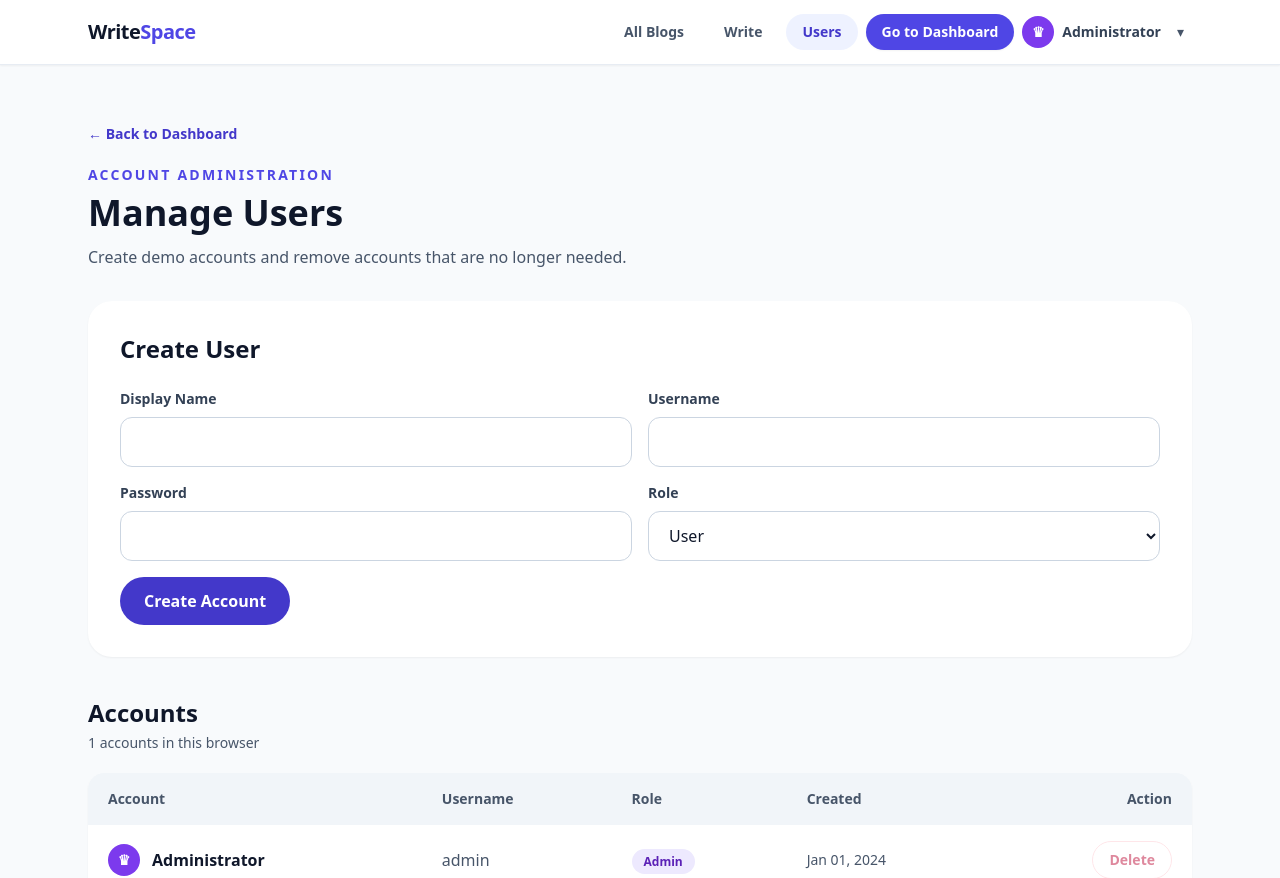
Test: administrator pages › creates a user account and reports duplicate or missing fields
Click the button "Create Account".
click(205, 601)  # box [120, 577, 290, 625]
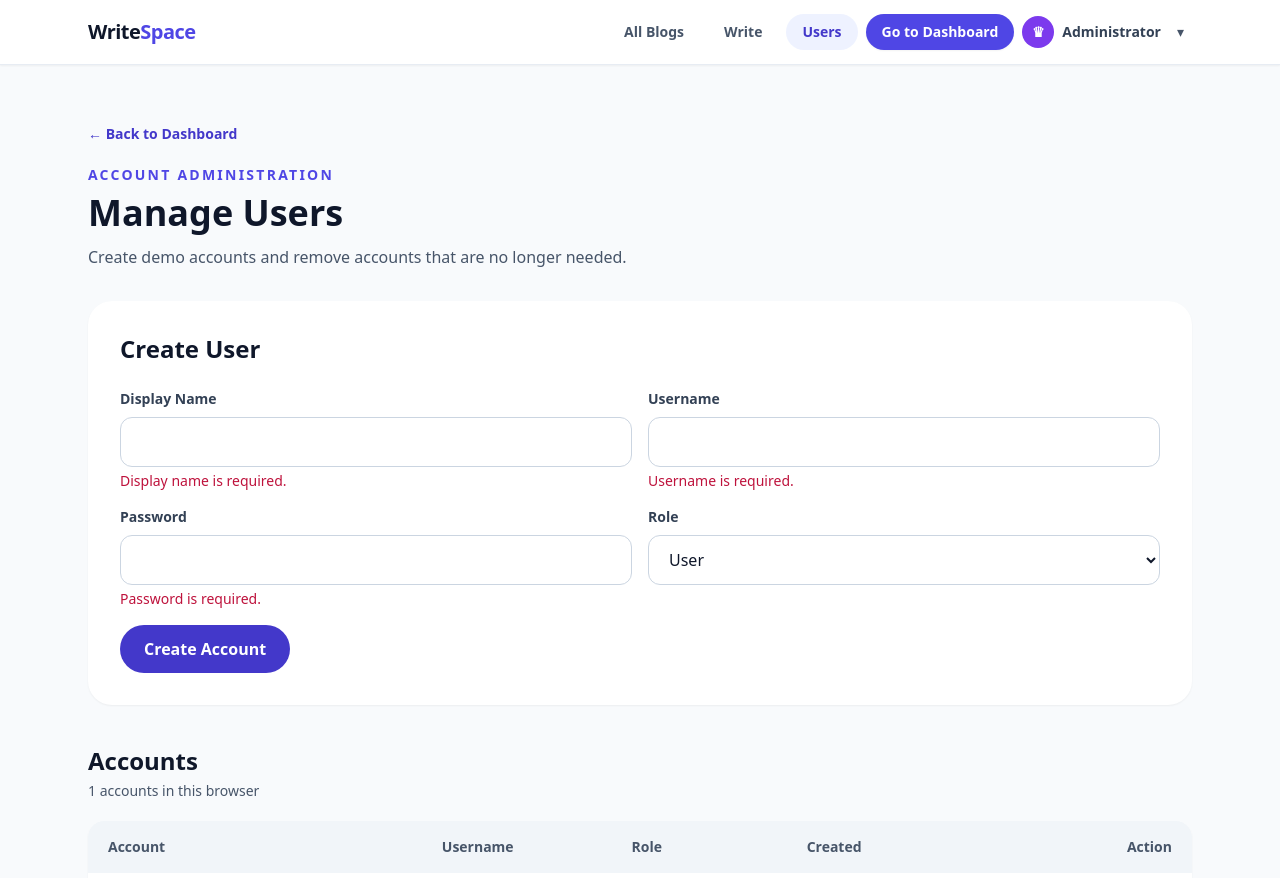
Check: the text "Display name is required." is shown, box [120, 471, 286, 490]
Check: the text "Username is required." is shown, box [648, 471, 794, 490]
Type "Rae Writer" into the field labelled "Display Name".
click(376, 442); type("Rae Writer")  # box [120, 417, 632, 467]
Type "rae" into the field labelled "Username".
click(904, 442); type("rae")  # box [648, 417, 1160, 467]
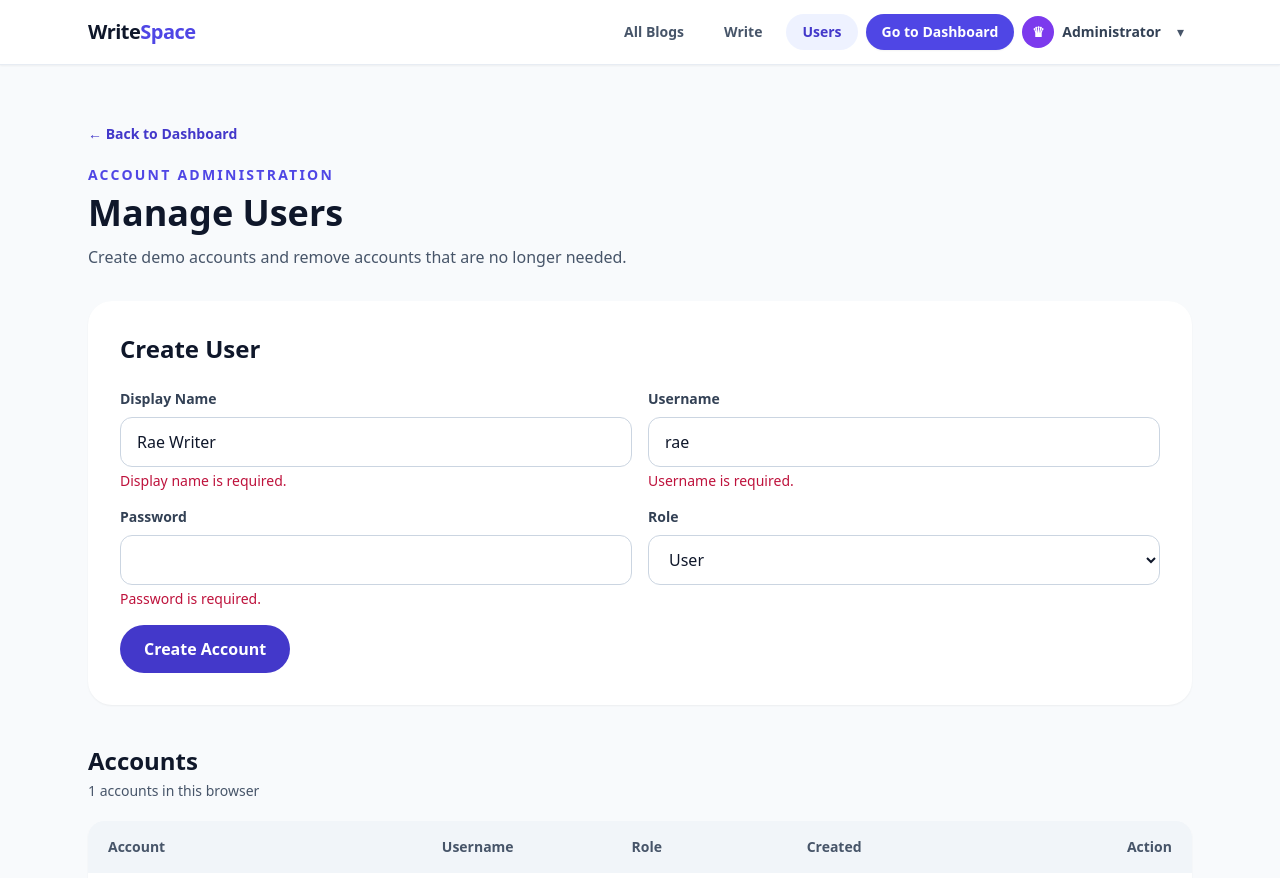
Type "secret" into the password field labelled "Password".
click(376, 560); type("secret")  # box [120, 535, 632, 585]
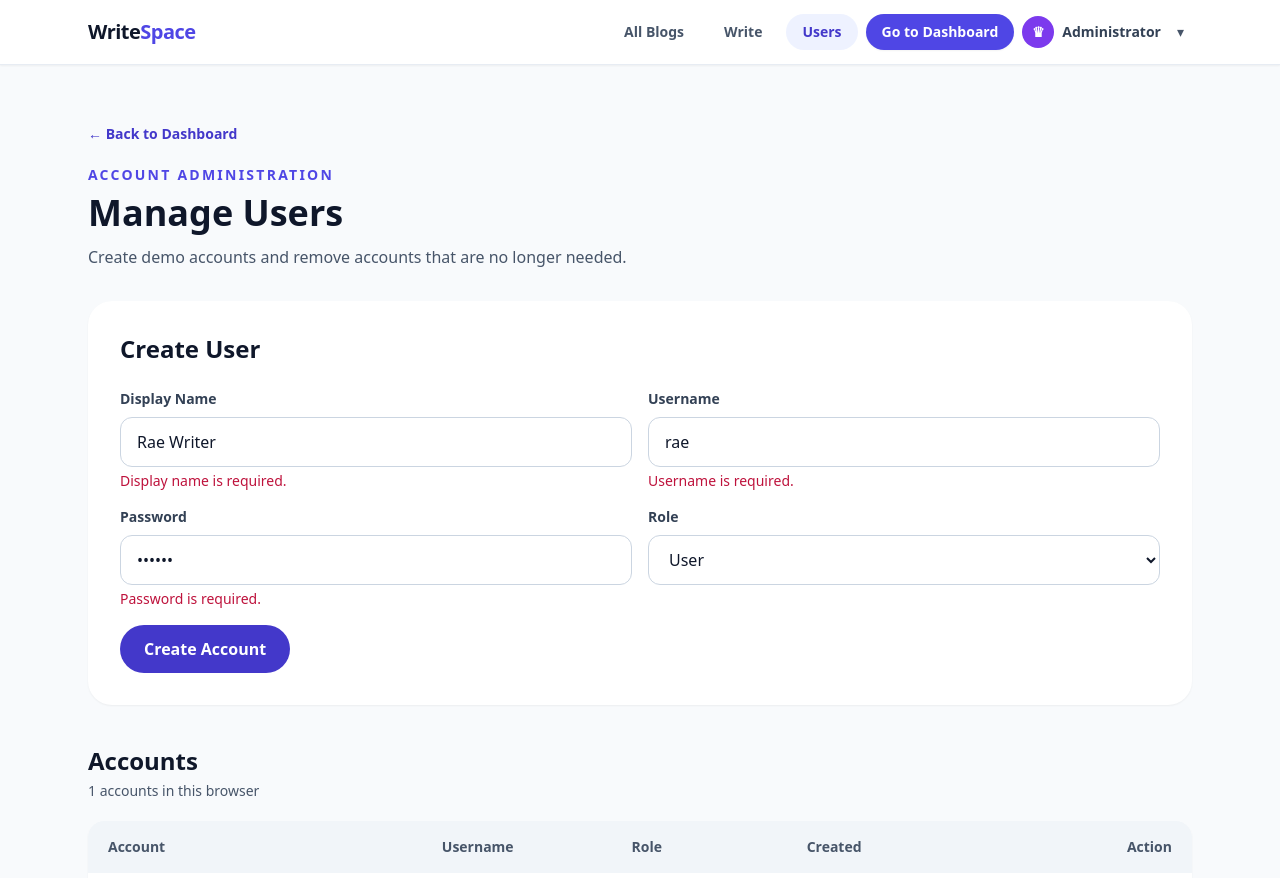
Select "User" in the dropdown labelled "Role" at (904, 560), box [648, 535, 1160, 585]
Click the button "Create Account".
click(205, 649)  # box [120, 625, 290, 673]
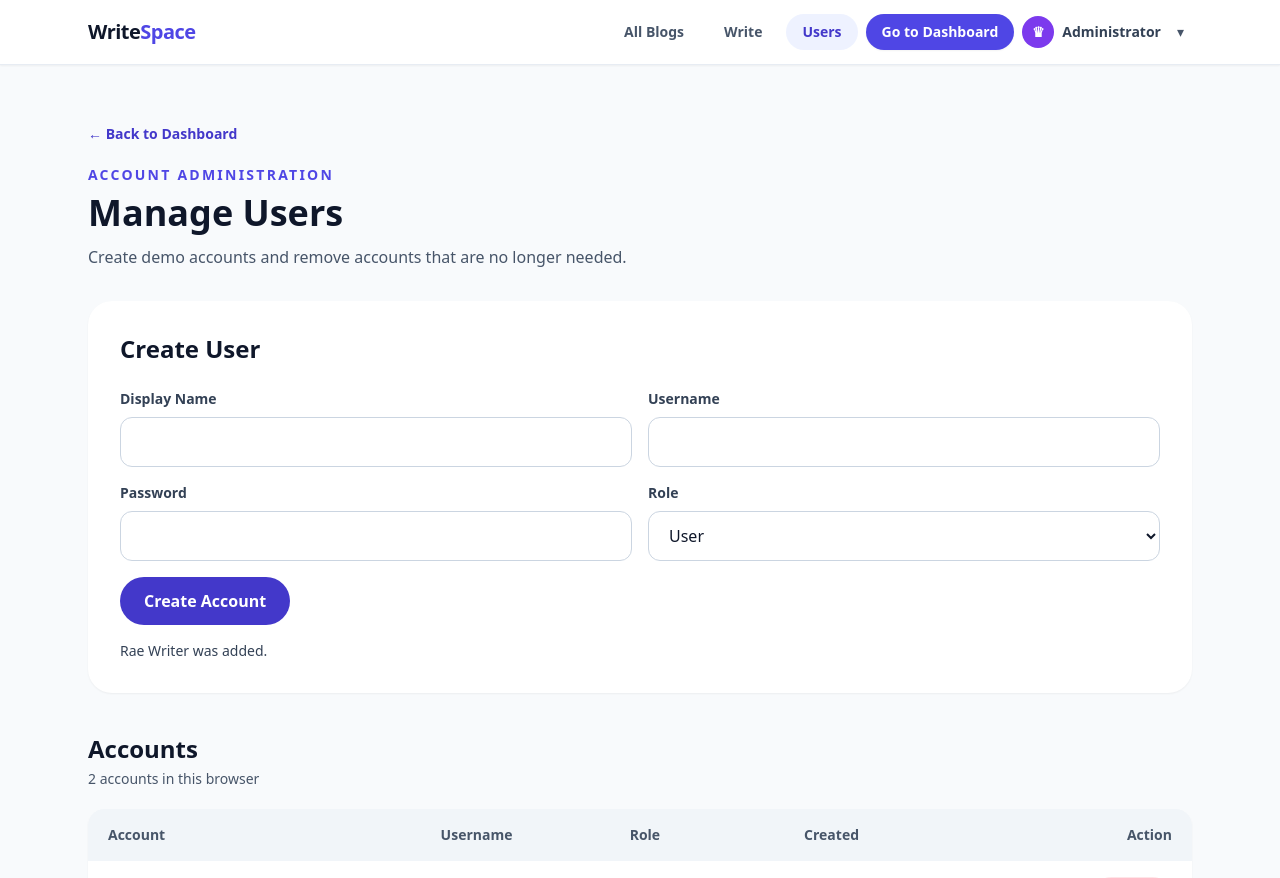
Check: the message reads "Rae Writer was added.", box [120, 641, 267, 660]
Type "RAE" into the field labelled "Username".
click(904, 442); type("RAE")  # box [648, 417, 1160, 467]
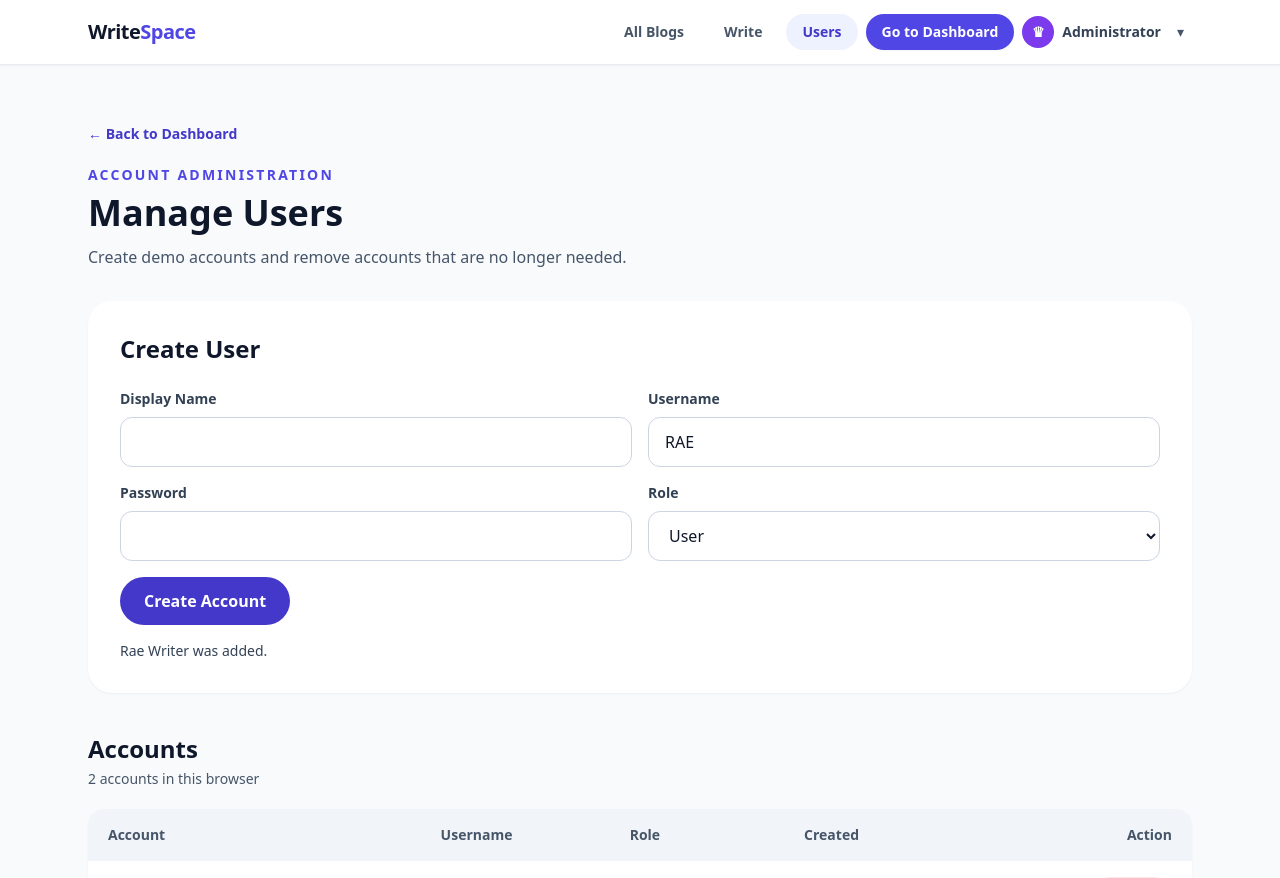
Click the button "Create Account".
click(205, 601)  # box [120, 577, 290, 625]
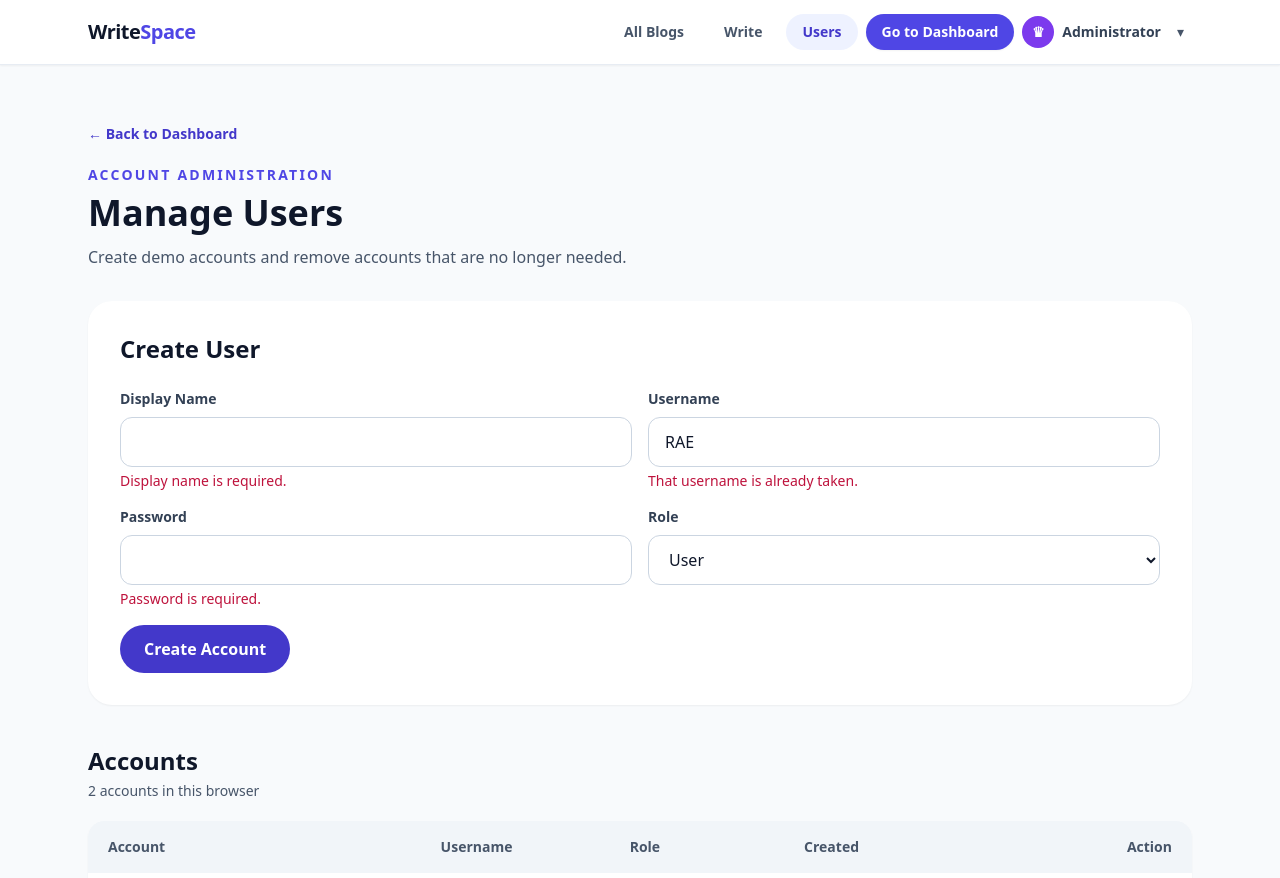
Check: the text "That username is already taken." is shown, box [648, 471, 858, 490]
